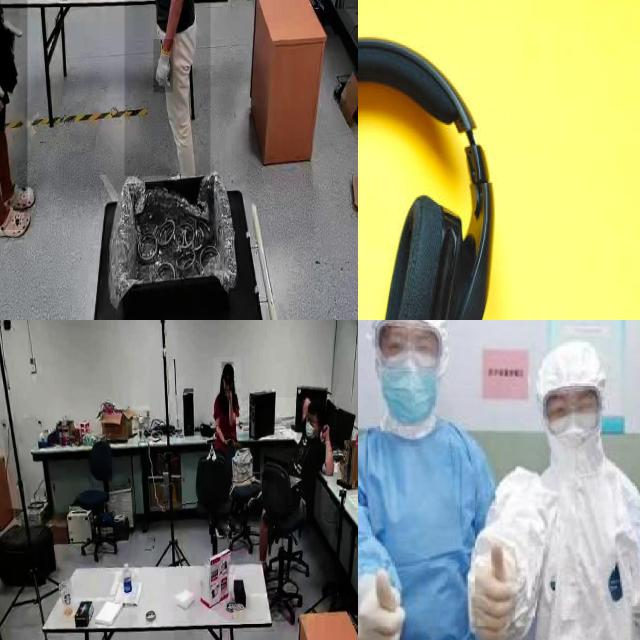Ear-protection: (358, 28, 503, 320)
face_mask: (540, 385, 606, 470), (378, 354, 444, 424), (304, 413, 320, 439)
face_nomask: (222, 378, 232, 394)
glasses: (370, 321, 450, 372), (544, 386, 606, 436)
hand_glove: (471, 541, 517, 640), (358, 566, 403, 640), (154, 39, 174, 93)
hand_noglove: (318, 421, 330, 442), (224, 436, 234, 446), (226, 388, 232, 400)
head_nohelmet: (534, 336, 609, 397), (366, 320, 452, 353), (306, 396, 330, 414), (222, 362, 234, 374)
person: (459, 323, 640, 640), (358, 320, 515, 640), (124, 0, 211, 176), (273, 397, 337, 513), (214, 357, 242, 458)
